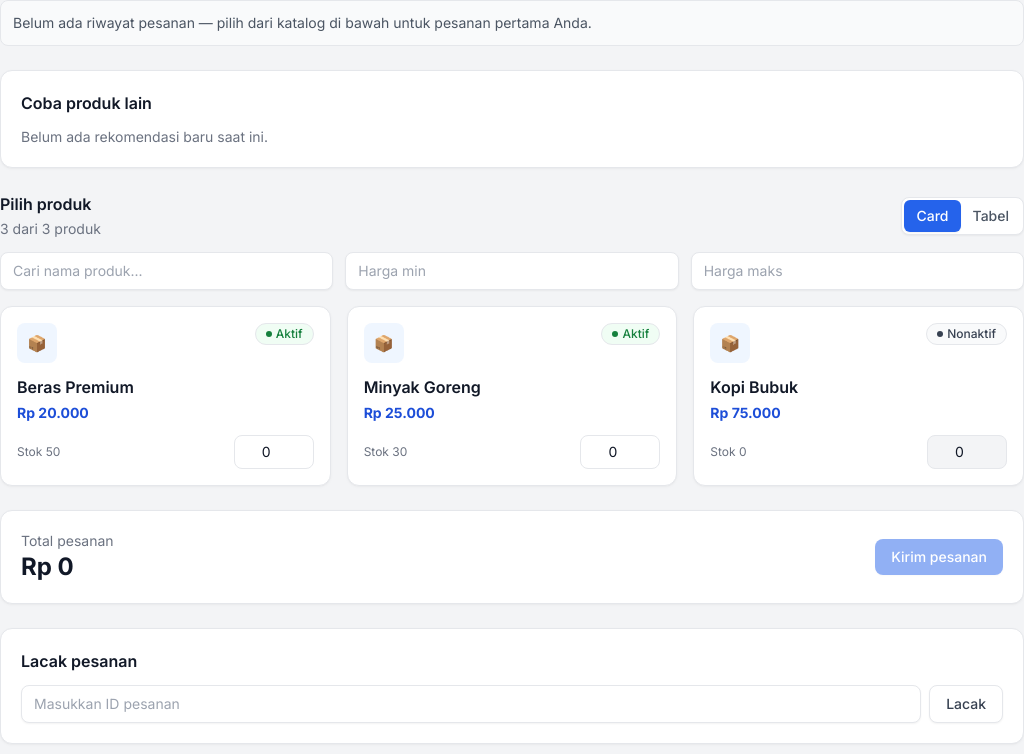
Test case: OrderForm — view mode + product filters › filters by product name
This screenshot has width=1024, height=754.
expect the heading "Beras Premium" is shown: met, box [17, 377, 134, 397]
Type "beras" into the field named "Cari produk" at (167, 271), box [0, 252, 333, 290]
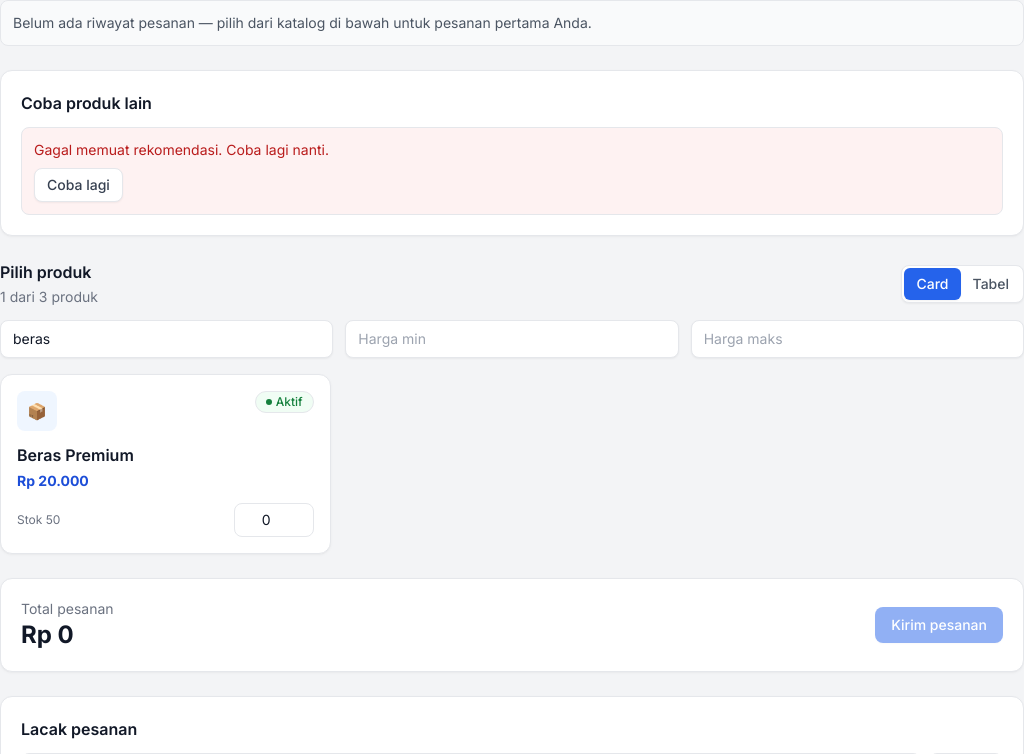
expect the heading "Beras Premium" is shown: met, box [17, 445, 134, 465]
expect the heading "Minyak Goreng" is gone: met
expect the text "1 dari 3 produk" is shown: met, box [0, 288, 98, 305]
